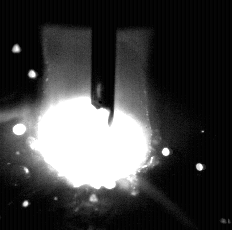arame: (92, 0, 116, 126)
poca: (37, 0, 150, 230)
